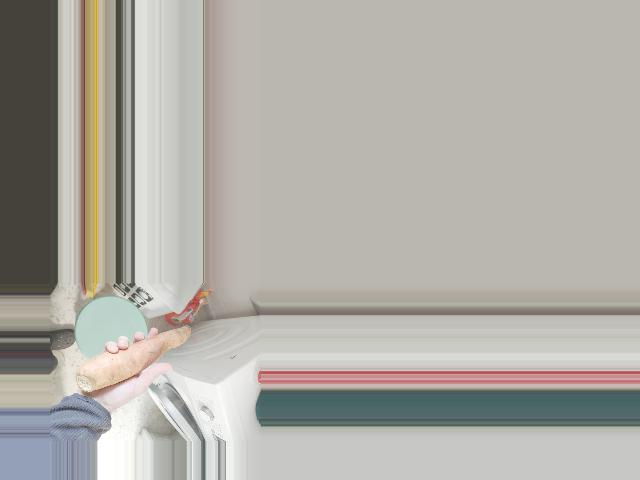sweet_potato: (73, 320, 199, 395)
